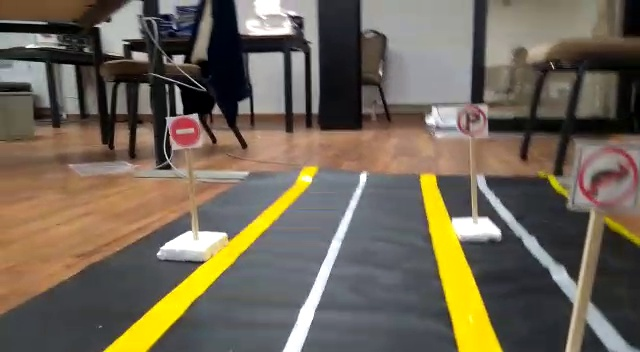girisi_olmayan_yol: (169, 113, 202, 149)
park_yapilmaz: (455, 103, 492, 135)
saga_donulmez: (580, 141, 638, 206)
